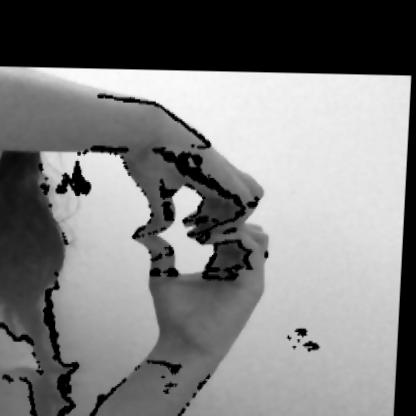heart: (112, 103, 294, 358)
